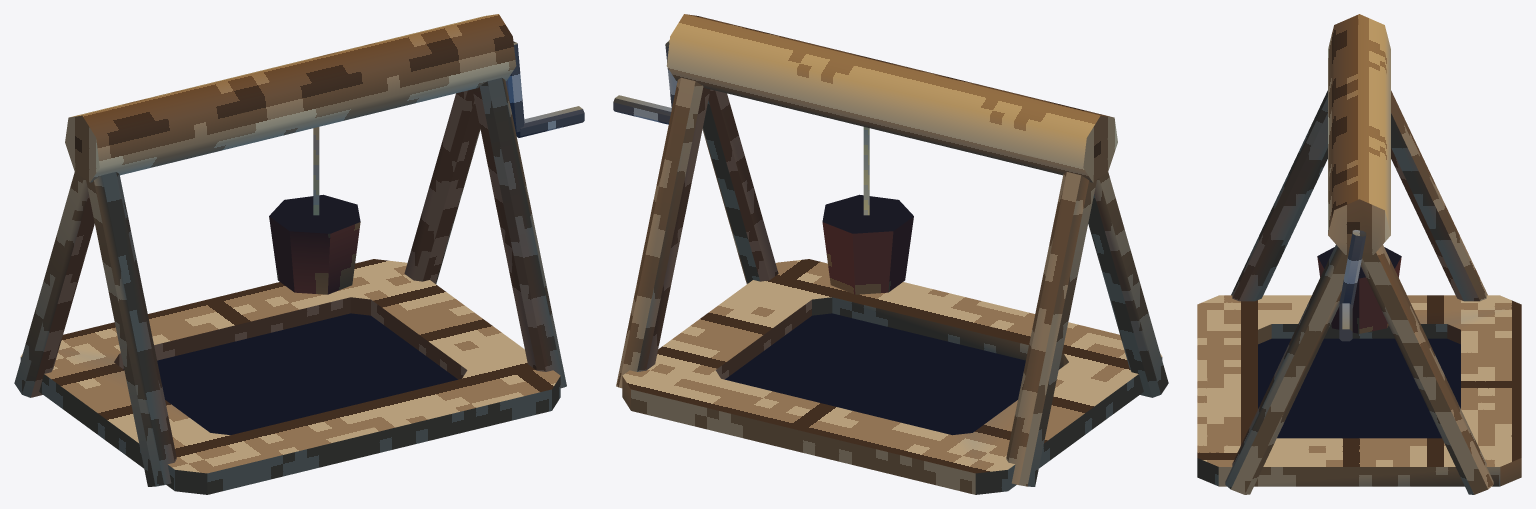
Rendered from wmine.windlass.glb.
3 views of the same model, side by side, from view 1: azimuth 30°, elevation 25°; view 2: azimuth 150°, elevation 25°; view 3: azimuth 270°, elevation 25° (orthographic). The views are drawn at different scales.
Visible parts, largest first — view 1: kit_collar, kit_uprights, kit_drum, kit_card_hole, kit_bucket, kit_crank, kit_rope; view 2: kit_collar, kit_uprights, kit_drum, kit_card_hole, kit_bucket, kit_crank, kit_rope; view 3: kit_collar, kit_uprights, kit_card_hole, kit_drum, kit_bucket, kit_crank.
Part boxes in pixels (bbox=[...]): kit_collar: bbox=[20, 259, 560, 494]; kit_uprights: bbox=[14, 77, 566, 486]; kit_drum: bbox=[65, 14, 516, 182]; kit_card_hole: bbox=[123, 313, 457, 434]; kit_bucket: bbox=[269, 194, 360, 294]; kit_crank: bbox=[505, 41, 584, 137]; kit_rope: bbox=[313, 127, 319, 215]; kit_collar: bbox=[622, 259, 1162, 494]; kit_uprights: bbox=[616, 77, 1168, 486]; kit_drum: bbox=[666, 14, 1117, 182]; kit_card_hole: bbox=[725, 313, 1059, 435]; kit_bucket: bbox=[822, 194, 913, 294]; kit_crank: bbox=[613, 40, 677, 124]; kit_rope: bbox=[863, 127, 869, 215]; kit_collar: bbox=[1197, 295, 1521, 486]; kit_uprights: bbox=[1225, 90, 1493, 494]; kit_card_hole: bbox=[1258, 338, 1460, 438]; kit_drum: bbox=[1328, 14, 1390, 254]; kit_bucket: bbox=[1317, 247, 1401, 333]; kit_crank: bbox=[1339, 230, 1366, 341].
Size of the model in its own units: 1.91 by 1.22 by 1.2.
7 materials, 7 textured.
